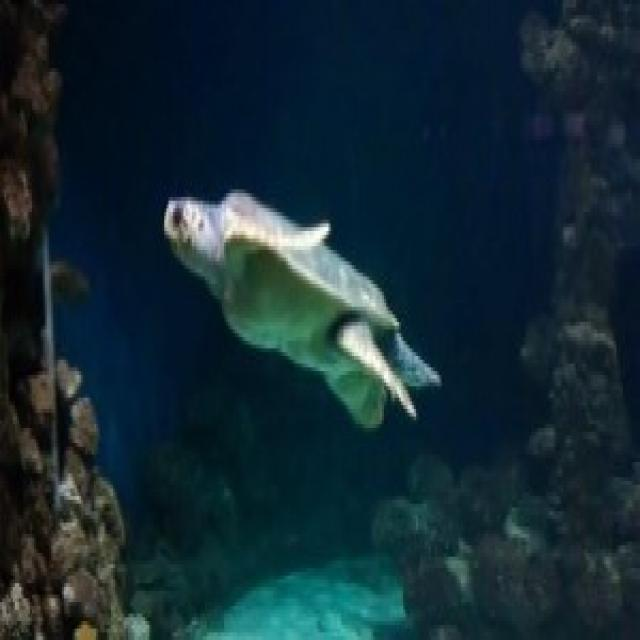Sea turtle: (160, 157, 442, 440)
